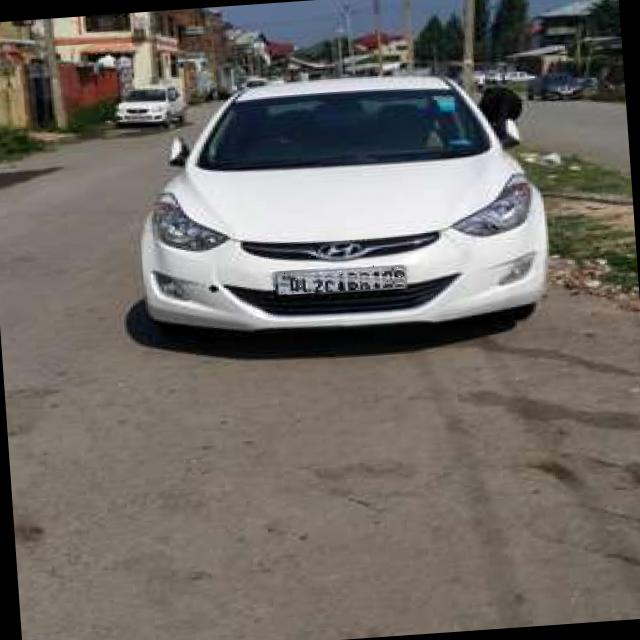Plate: (273, 263, 406, 296)
